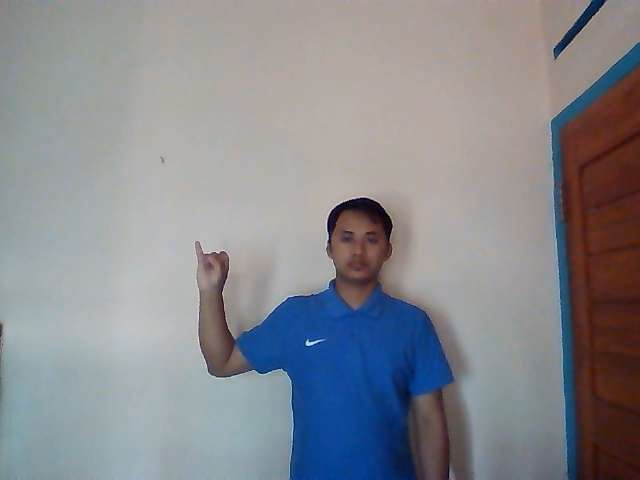I: (193, 239, 230, 293)
